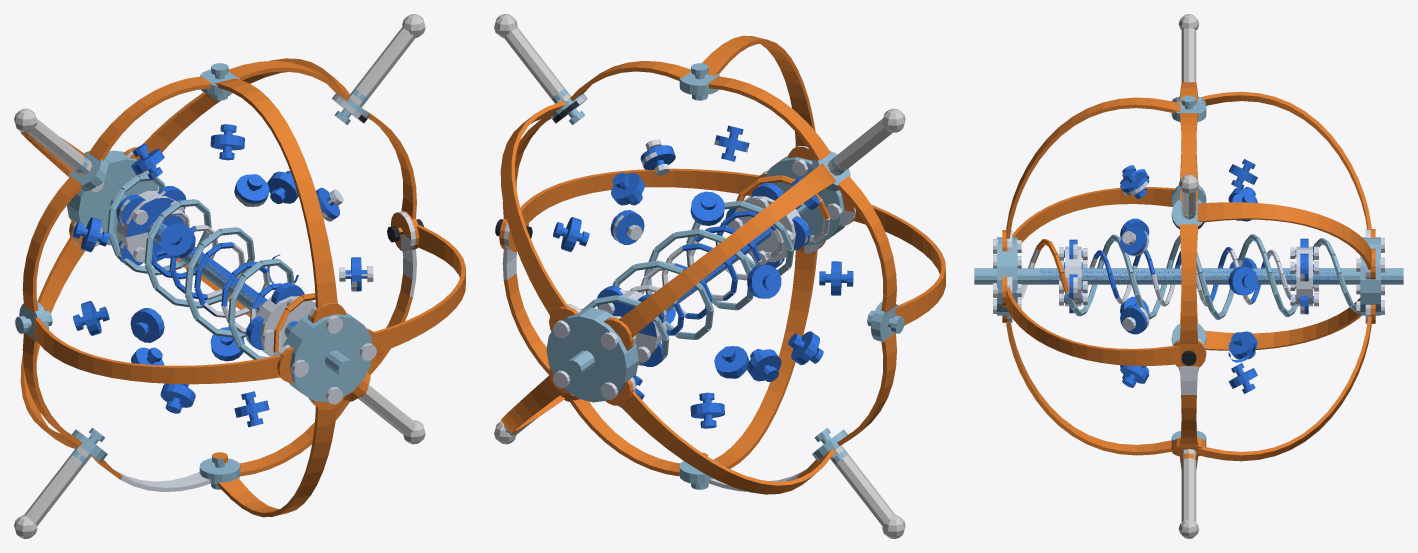
The model's file is unit_cell_dual_nested.obj.
3 renders of one model, left to right at view 1: azimuth 30°, elevation 25°; view 2: azimuth 150°, elevation 25°; view 3: azimuth 270°, elevation 25°, orthographic. The views are drawn at different scales.
Parts seen in each view (by area): view 1: links_equatorial, spring, links_truss, pins, triads; view 2: links_equatorial, spring, links_truss, pins, triads; view 3: links_equatorial, spring, links_truss, pins, triads.
Part boxes in pixels (left/top/right/bottom): links_equatorial: left=20, top=58, right=465, bottom=517; spring: left=15, top=63, right=372, bottom=489; links_truss: left=73, top=124, right=367, bottom=427; pins: left=72, top=151, right=416, bottom=491; triads: left=14, top=14, right=425, bottom=538; links_equatorial: left=499, top=35, right=945, bottom=494; spring: left=546, top=63, right=904, bottom=489; links_truss: left=553, top=125, right=853, bottom=428; pins: left=502, top=139, right=855, bottom=491; triads: left=494, top=14, right=905, bottom=538; links_equatorial: left=1002, top=82, right=1375, bottom=469; spring: left=974, top=96, right=1403, bottom=442; links_truss: left=1040, top=159, right=1337, bottom=393; pins: left=993, top=181, right=1384, bottom=430; triads: left=1178, top=14, right=1199, bottom=538.
Bounding box in the file's own units: 96.92 × 96.92 × 104.
